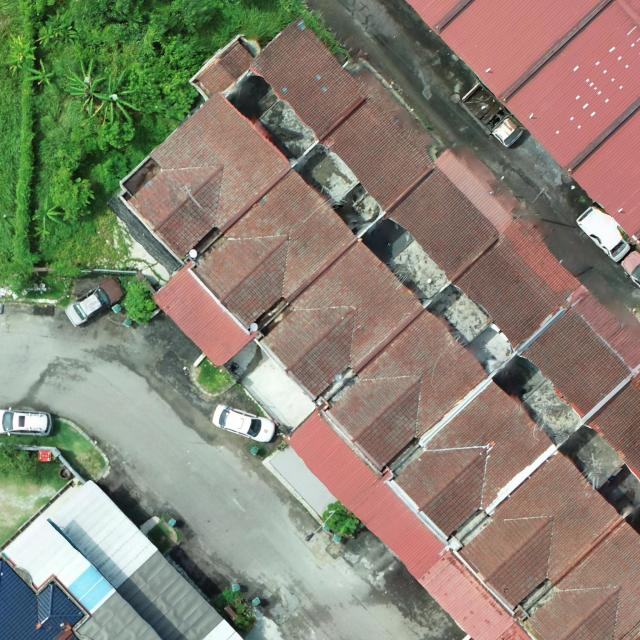Tree: (127, 33, 207, 122), (90, 68, 142, 128), (62, 57, 107, 116), (49, 167, 94, 222), (36, 8, 81, 49), (120, 279, 158, 326), (28, 195, 64, 242), (6, 34, 37, 76), (322, 502, 359, 534), (26, 59, 56, 88)
